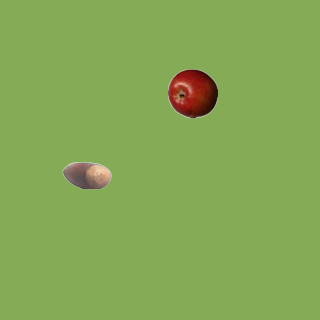Apple Braeburn: (167, 68, 217, 118)
Hazelnut: (61, 150, 111, 200)
